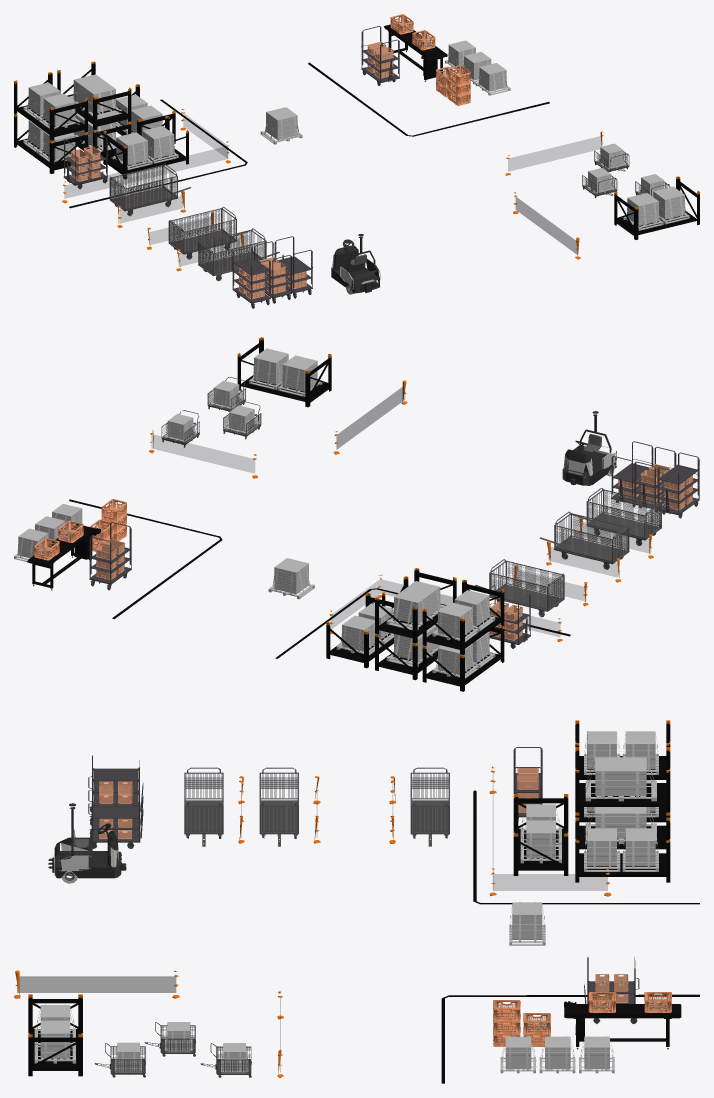
Rendered from factory-interior-2.glb.
3 renders of one model, top to bottom at view 1: azimuth 30°, elevation 25°; view 2: azimuth 150°, elevation 25°; view 3: azimuth 270°, elevation 25°, orthographic. The views are drawn at different scales.
Visible parts, largest first — view 1: Trollies_Large, Baricade, Shader#116; view 2: Trollies_Large, Baricade, Shader#116; view 3: Trollies_Large, Baricade, Shader#116.
Boxes of the visible parts, <box> form: Trollies_Large: <box>14,21,699,308</box>; Baricade: <box>65,114,600,266</box>; Shader#116: <box>390,14,470,105</box>; Trollies_Large: <box>14,337,699,691</box>; Baricade: <box>152,386,650,636</box>; Shader#116: <box>34,499,126,560</box>; Trollies_Large: <box>14,720,699,1083</box>; Baricade: <box>17,783,607,1071</box>; Shader#116: <box>493,992,671,1046</box>.
Size of the model in its own units: 6.4 by 0.8633 by 6.36.
Materials: 4 (4 with a texture image).
